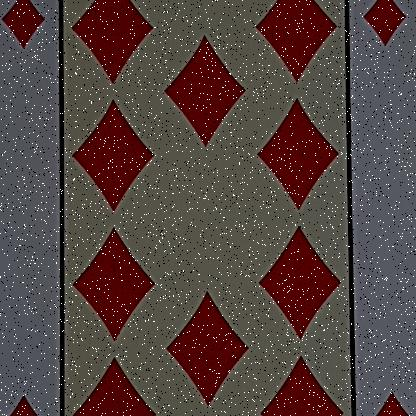10d: (346, 0, 415, 59), (0, 0, 73, 55)
